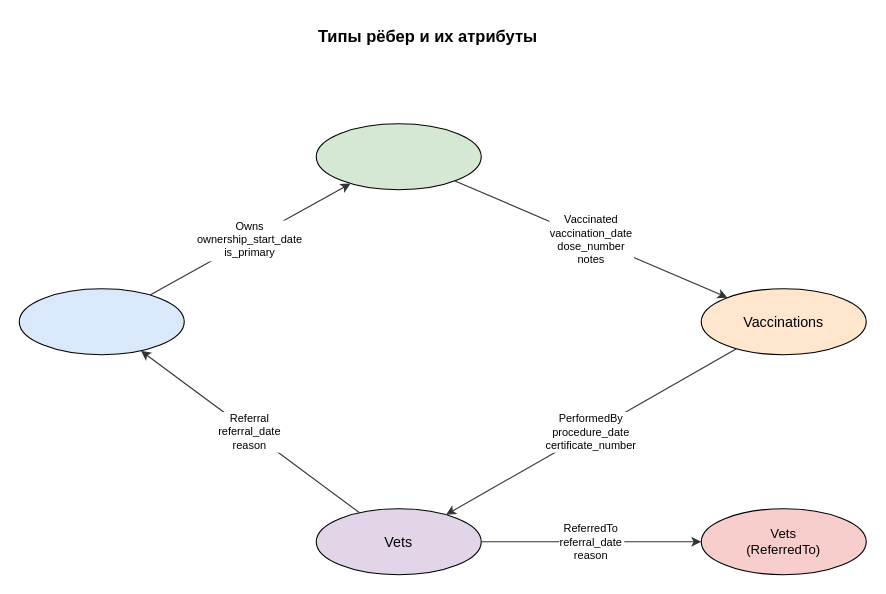
This 886x594 diagram has some shape labels left out. The centre of each missing label's shape, as x and y in pixels:
"Owners" belongs at point 101,321.
"Pets" belongs at point 398,156.
